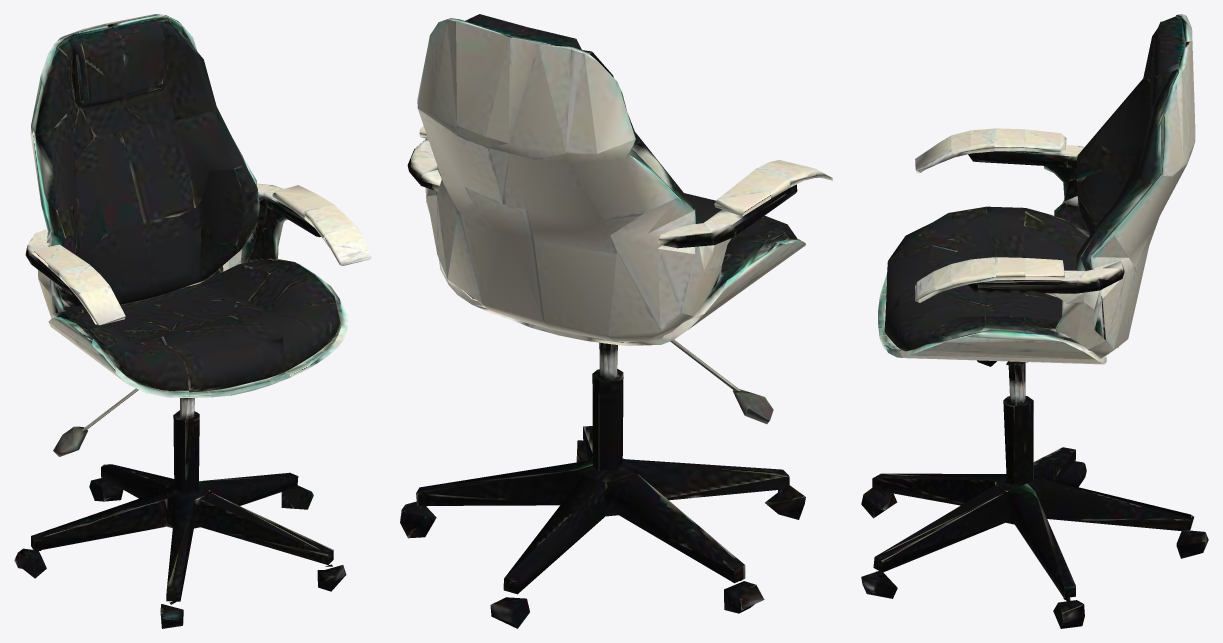
The model's file is chair.lod1.glb.
3 views of the same model, side by side, from view 1: azimuth 30°, elevation 25°; view 2: azimuth 150°, elevation 25°; view 3: azimuth 270°, elevation 25° (orthographic). The views are drawn at different scales.
Size of the model in its own units: 0.6809 by 1.05 by 0.6419.
Materials: 1 (1 with a texture image).
